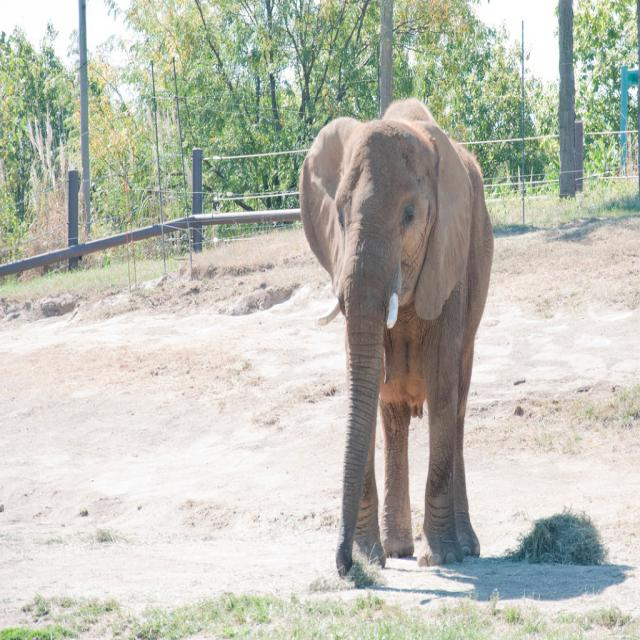elephant: (298, 89, 502, 596)
